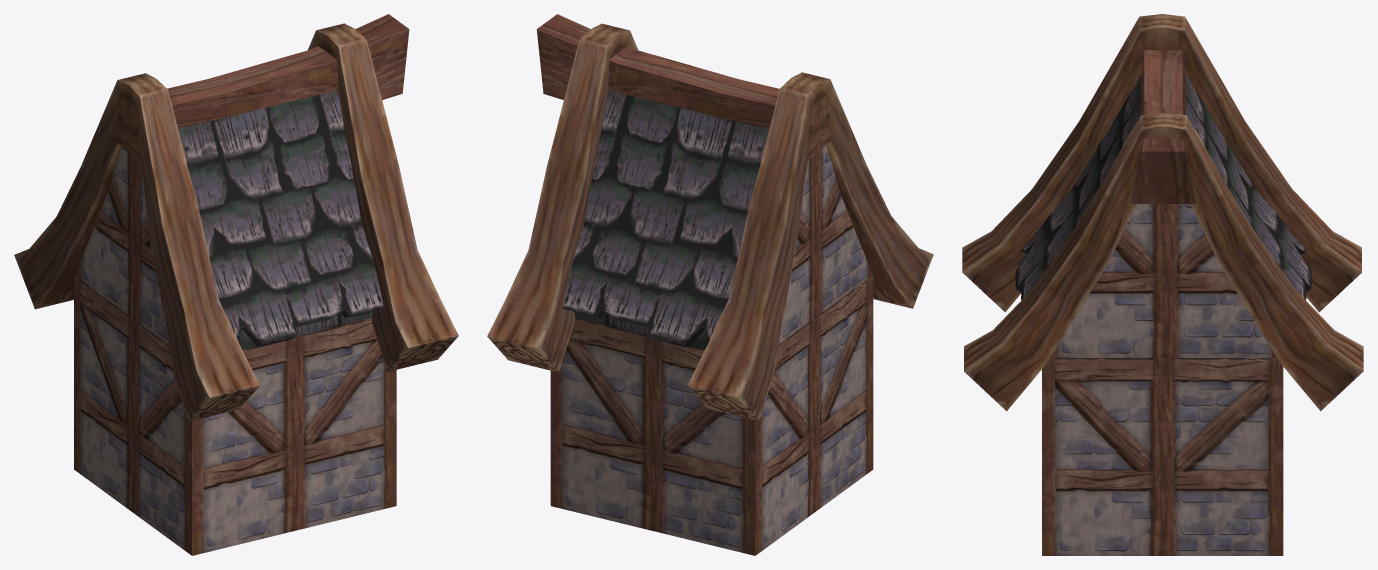
File: tower_box.fbx
3 renders of one model, left to right at view 1: azimuth 30°, elevation 25°; view 2: azimuth 150°, elevation 25°; view 3: azimuth 270°, elevation 25°, orthographic. The views are drawn at different scales.
Parts seen in each view (by area): view 1: tower_box; view 2: tower_box; view 3: tower_box.
Boxes of the visible parts, box(x1,y1,x2,y2) form: tower_box: box(14, 14, 458, 555); tower_box: box(487, 14, 933, 555); tower_box: box(962, 14, 1363, 555).
Size of the model in its own units: 211 by 300 by 249.
